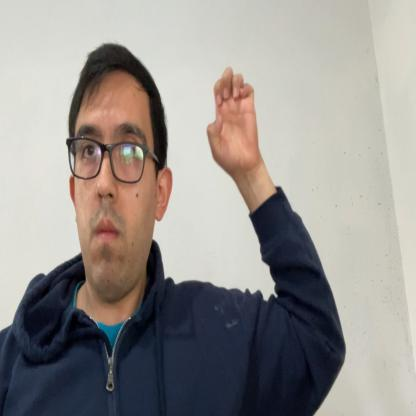F: (207, 67, 259, 174)
